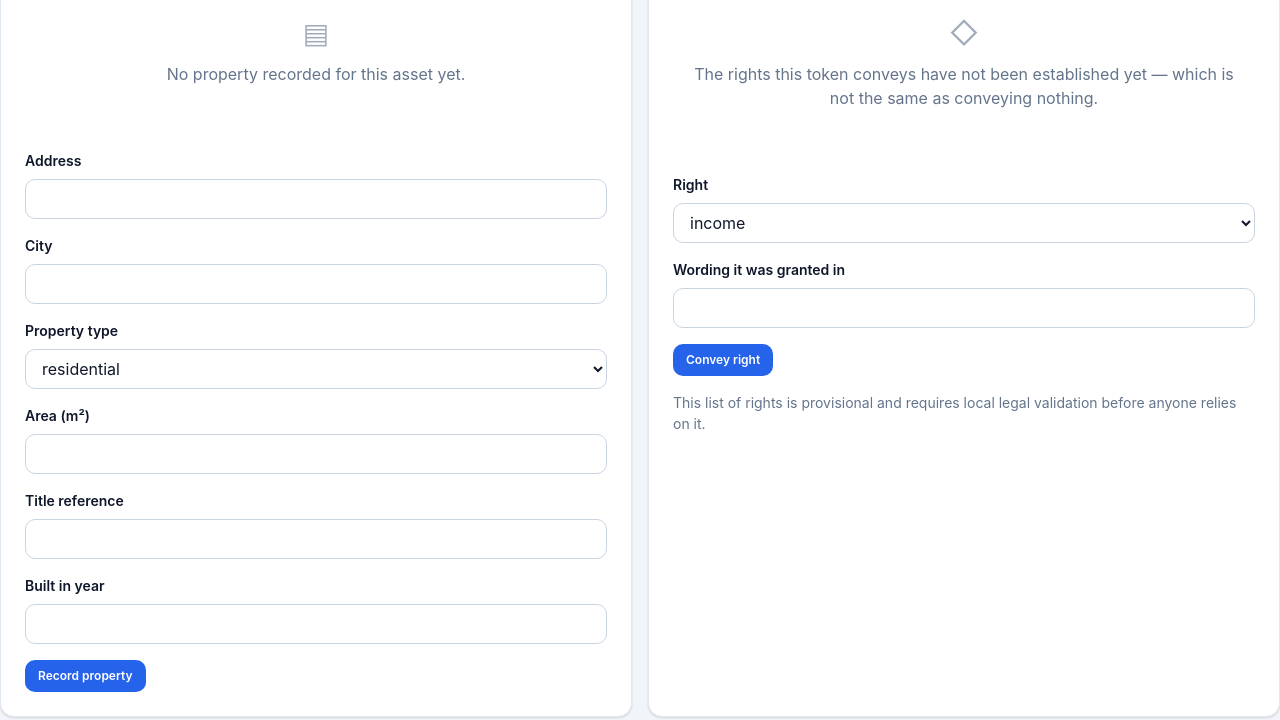
Test: AssetDetailPage property and rights refusals › surfaces a refused right, with the server's wording
This screenshot has width=1280, height=720.
(page scrolled)
Click the button "Convey right" at (723, 360), box left=673, top=344, right=773, bottom=376
(page scrolled)
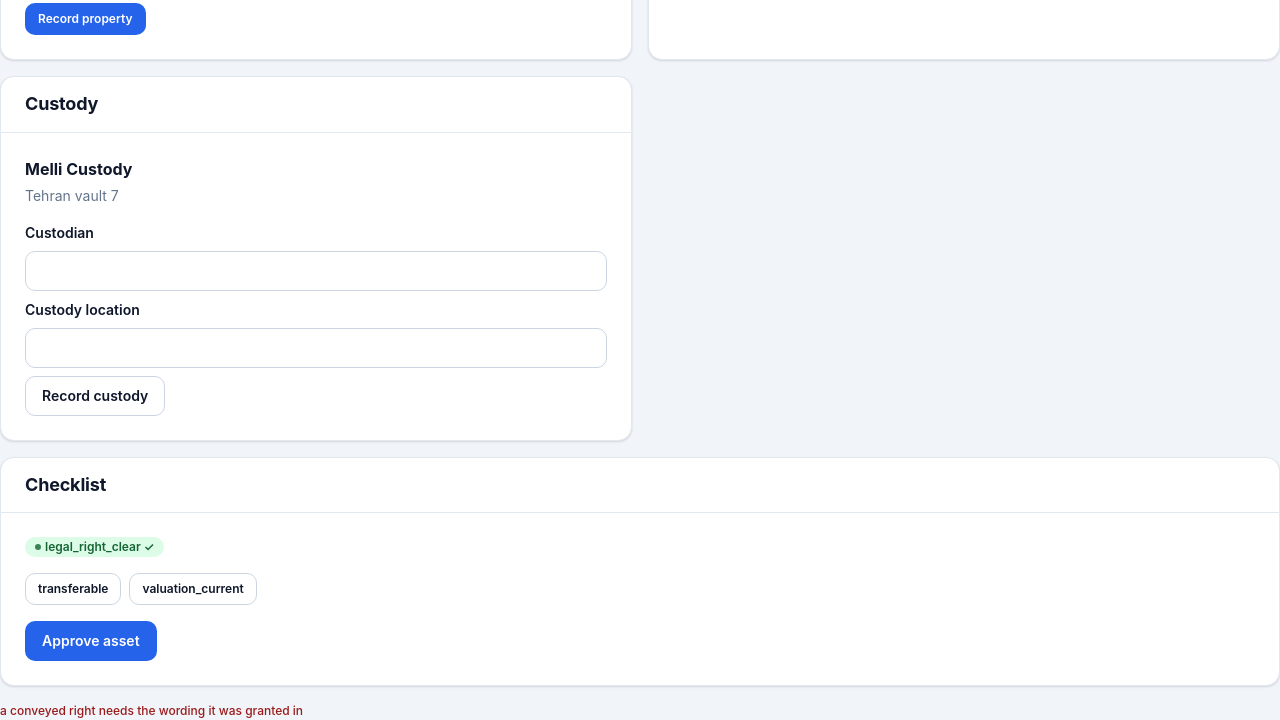
Result: the message shows "wording it was granted in" at left=0, top=703, right=303, bottom=718
